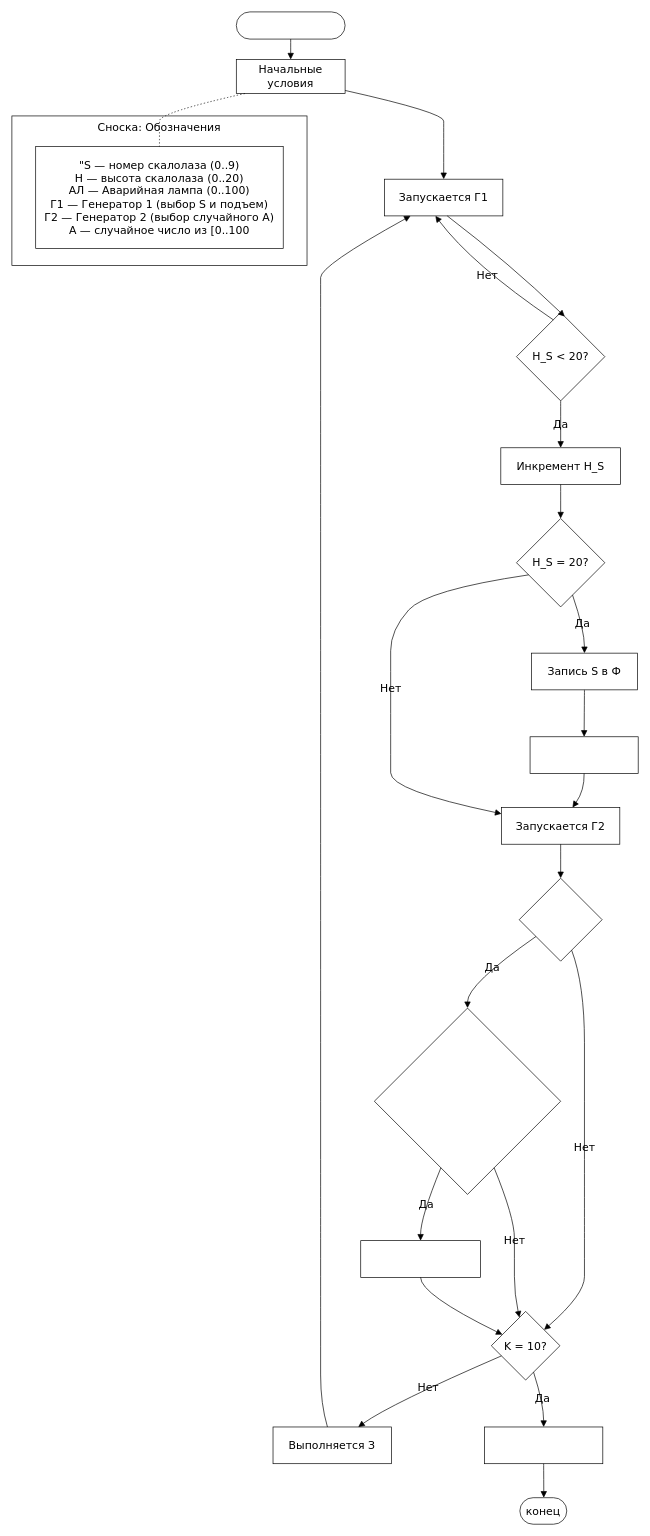
Some shapes in this 650 by 1536 pixel diagram are drawn without their labels. Each missing label, with the centre of its shape:
"A <= АЛ?" belongs at point 560,919.
"Выполняется Р" belongs at point 543,1445.
"Декремент H_S" belongs at point 420,1258.
"Есть S с 0 < H_S < 20?" belongs at point 467,1100.
"Инкремент К" belongs at point 583,755.
"начало" belongs at point 290,25.
